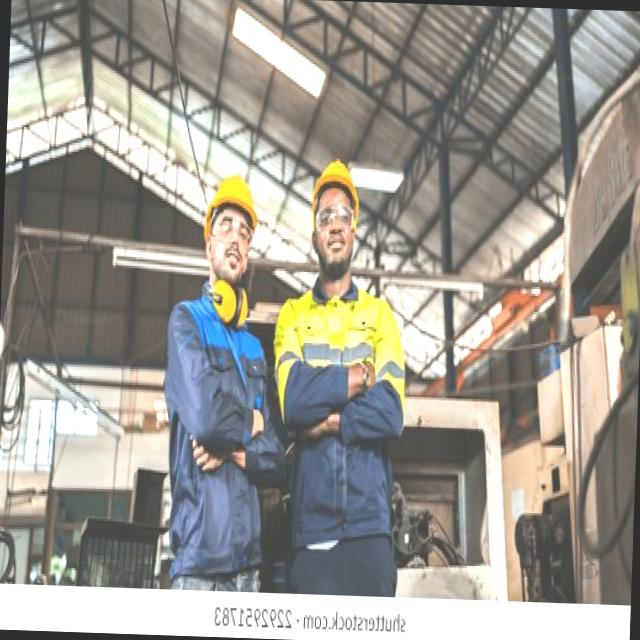goggles: (310, 200, 356, 237), (208, 215, 255, 248)
helmet: (202, 171, 260, 238), (310, 157, 362, 230)
vest: (266, 277, 409, 554), (160, 316, 270, 554)
